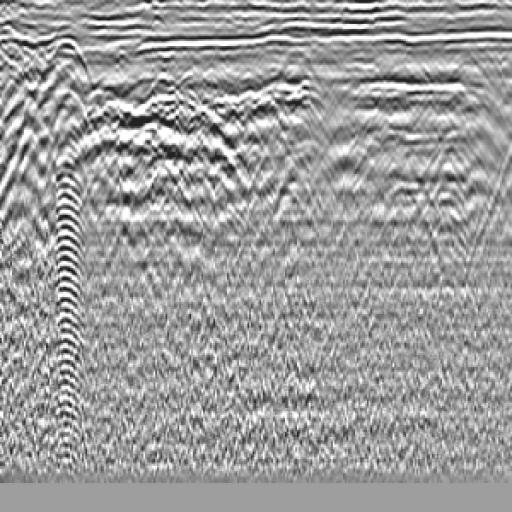metalic: (344, 66, 429, 130)
